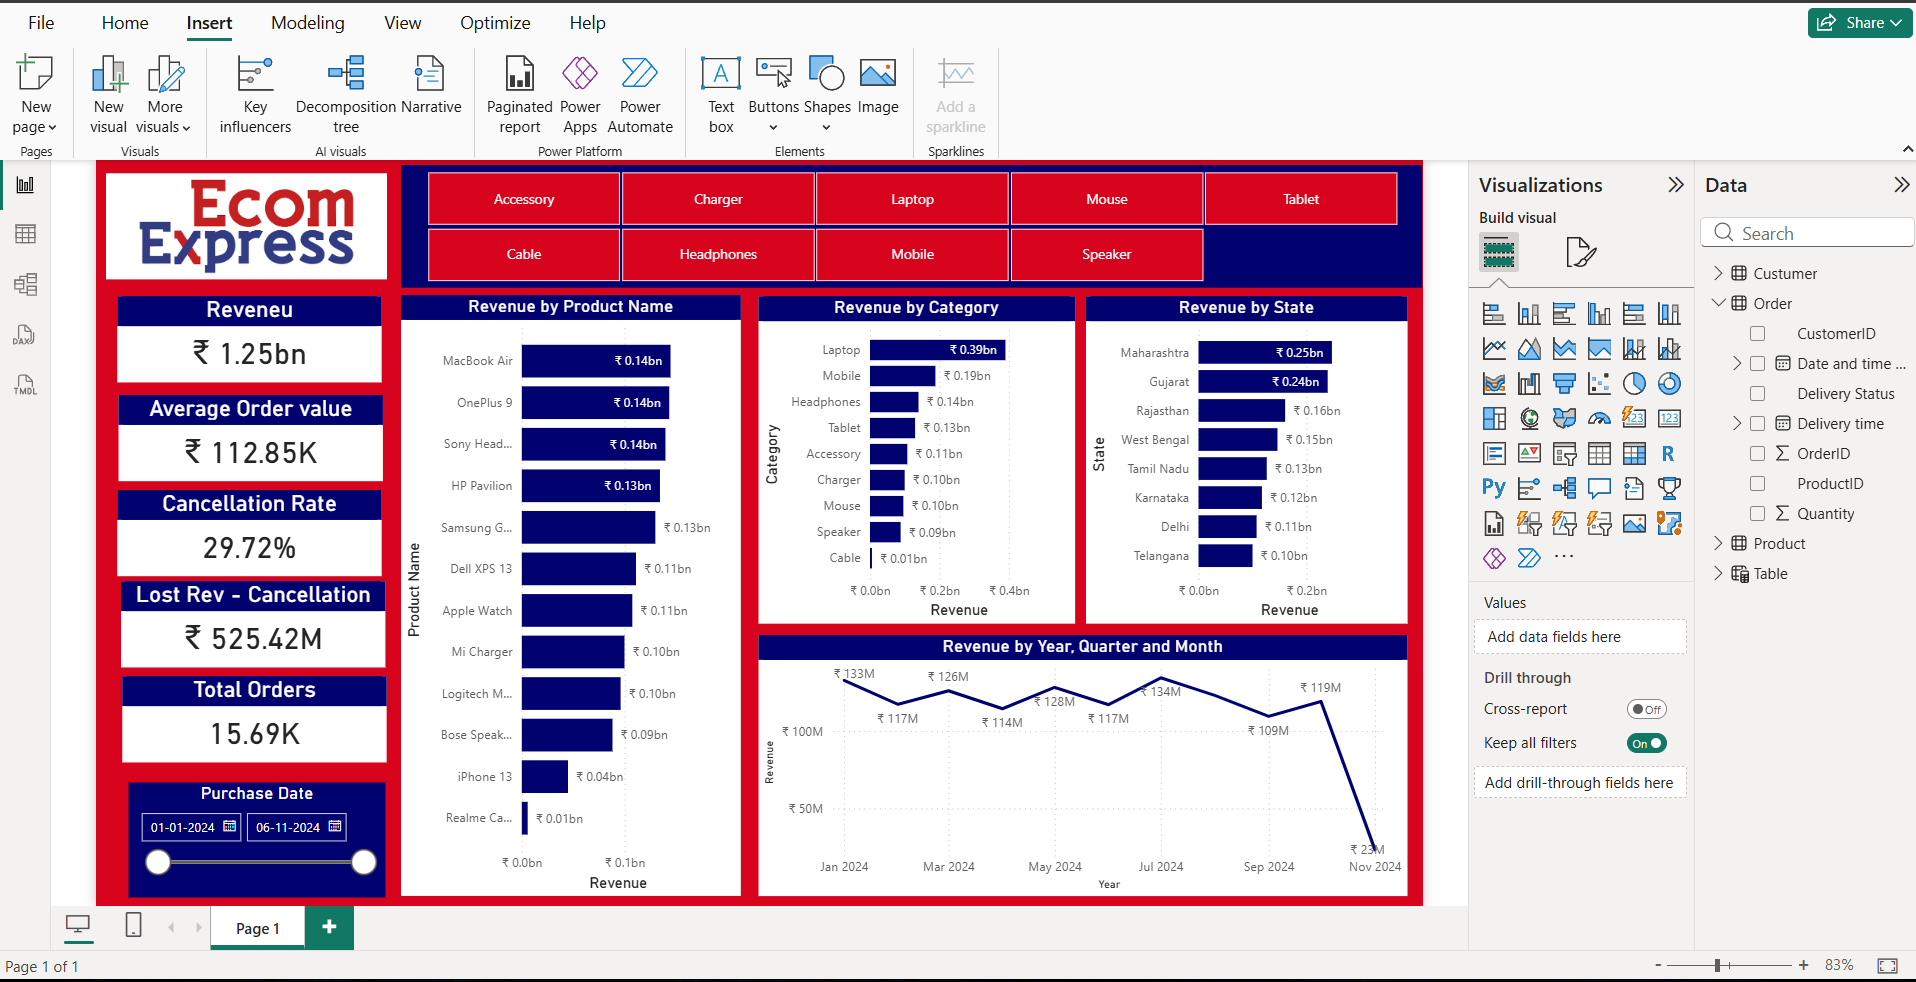

Layout of this report page (visuals, bound fields, positions):
{"tool":"powerbi","page":{"name":"Page 1","canvas":[1280,720],"ordinal":0},"visuals":[{"type":"shape","box":[9.6,0,1270.7,130.4],"z":0},{"type":"shape","box":[9.8,123.5,284.9,596.7],"z":1000},{"type":"barChart","fields":{"Y":["Table.Revenue"],"Category":["Product.Product Name"]},"box":[294.4,130.3,328.2,580.3],"z":2000},{"type":"barChart","fields":{"Y":["Table.Revenue"],"Category":["Product.Category"]},"box":[639.4,131.5,305.2,316.1],"z":3000},{"type":"lineChart","fields":{"Category":["Order.Date and time of purchase.Variation.Date Hierarchy.Year","Order.Date and time of purchase.Variation.Date Hierarchy.Quarter","Order.Date and time of purchase.Variation.Date Hierarchy.Month","Order.Date and time of purchase.Variation.Date Hierarchy.Day"],"Y":["Table.Revenue"]},"box":[639.4,458.4,626.1,252.1],"z":4000},{"type":"barChart","fields":{"Category":["Custumer.State"],"Y":["Table.Revenue"]},"box":[955.5,131.5,310.1,316.1],"z":5000},{"type":"slicer","fields":{"Values":["Product.Category"]},"box":[294.7,4.9,985.6,118.6],"z":6000},{"type":"card","title":"Reveneu","fields":{"Values":["Table.Revenue"]},"box":[20.8,132.1,255.6,83.2],"z":7000},{"type":"card","title":"Average Order value","fields":{"Values":["Table.AOV"]},"box":[22,226.2,255.6,83.2],"z":8000},{"type":"card","title":"Cancellation Rate","fields":{"Values":["Table.Cancellation Rate"]},"box":[20.8,317.9,255.6,83.2],"z":9000},{"type":"card","title":"Lost Rev - Cancellation","fields":{"Values":["Table.lost_rev_cancelaation"]},"box":[24.5,406,255.6,83.2],"z":10000},{"type":"card","title":"Total Orders","fields":{"Values":["CountNonNull(Order.OrderID)"]},"box":[25.7,497.7,255.6,83.2],"z":11000},{"type":"slicer","title":"Purchase Date","fields":{"Values":["Order.Date and time of purchase"]},"box":[31.8,600.4,248.2,110.1],"z":12000},{"type":"image","box":[9.7,4.8,271.4,118.2],"z":12001}]}

Visuals, with their boxes on the page's 1280x720 design canvas (x1, y1, x2, y2). These are canvas units, not pixel positions in the 1916x982 screenshot, which may show the page scaled, cropped or inside an application window:
shape: region(10, 0, 1280, 130)
shape: region(10, 124, 295, 720)
barChart - Table.Revenue x Product.Product Name: region(294, 130, 623, 711)
barChart - Table.Revenue x Product.Category: region(639, 132, 945, 448)
lineChart - Order.Date and time of purchase.Variation.Date Hierarchy.Year x Order.Date and time of purchase.Variation.Date Hierarchy.Quarter: region(639, 458, 1266, 710)
barChart - Custumer.State x Table.Revenue: region(956, 132, 1266, 448)
slicer - Product.Category: region(295, 5, 1280, 124)
"Reveneu" card: region(21, 132, 276, 215)
"Average Order value" card: region(22, 226, 278, 309)
"Cancellation Rate" card: region(21, 318, 276, 401)
"Lost Rev - Cancellation" card: region(24, 406, 280, 489)
"Total Orders" card: region(26, 498, 281, 581)
"Purchase Date" slicer: region(32, 600, 280, 710)
image: region(10, 5, 281, 123)
